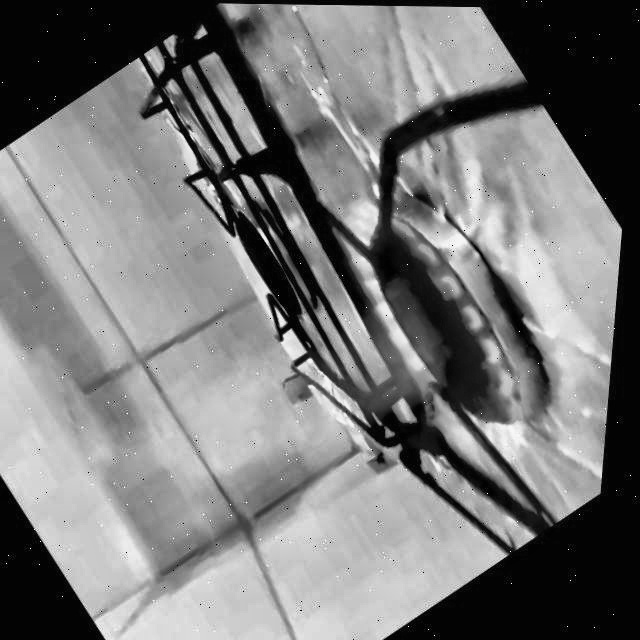Fire: (294, 171, 580, 489)
